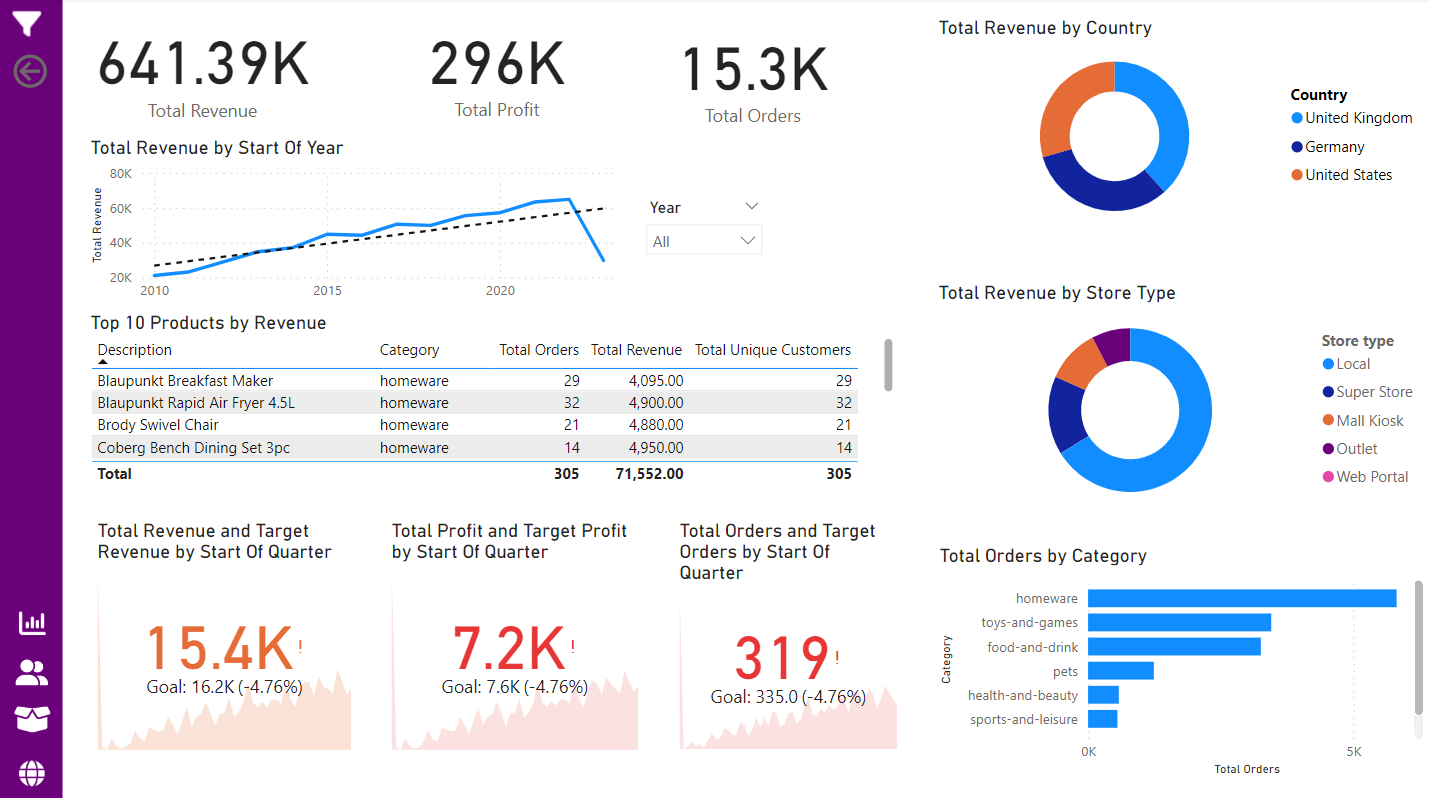

The page's visual inventory and layout, read from the dashboard file:
{"tool":"powerbi","page":{"name":"Executive Summary","canvas":[1280,720],"ordinal":0},"visuals":[{"type":"shape","box":[0,0,56.7,719.6],"z":0},{"type":"card","fields":{"Values":["Measures Table.Total Revenue"]},"box":[56.9,0,288.1,189.8],"z":1000},{"type":"card","fields":{"Values":["Measures Table.Total Orders"]},"box":[610.3,15.8,209.6,158.2],"z":2000},{"type":"card","fields":{"Values":["Measures Table.Total Profit"]},"box":[345,0,295,191.5],"z":3000},{"type":"lineChart","fields":{"Y":["Measures Table.Total Revenue"],"Category":["Dates.Start Of Year.Variation.Date Hierarchy.Year","Dates.Start Of Year.Variation.Date Hierarchy.Quarter","Dates.Start Of Year.Variation.Date Hierarchy.Month","Dates.Start Of Year.Variation.Date Hierarchy.Day"]},"box":[178.1,189.9,537.5,227.7],"z":4000},{"type":"donutChart","fields":{"Y":["Measures Table.Total Revenue"],"Category":["Stores.Country"]},"box":[835.8,15.8,444.2,196.4],"z":5000},{"type":"donutChart","fields":{"Y":["Measures Table.Total Revenue"],"Category":["Stores.Store Type"]},"box":[835.8,253.1,444.2,212.2],"z":6000},{"type":"clusteredBarChart","fields":{"Category":["Products.Category"],"Y":["Measures Table.Total Orders"]},"box":[836.1,488.9,443.1,212.5],"z":7000},{"type":"kpi","fields":{"TrendLine":["Dates.Start Of Quarter"],"Goal":["Measures Table.Target Revenue"],"Indicator":["Measures Table.Total Revenue"]},"box":[82,466.2,237.4,211.5],"z":8000},{"type":"kpi","fields":{"Indicator":["Measures Table.Total Profit"],"TrendLine":["Dates.Start Of Quarter"],"Goal":["Measures Table.Target Profit"]},"box":[345.4,466.2,231,211.5],"z":9000},{"type":"kpi","fields":{"Indicator":["Measures Table.Total Orders"],"TrendLine":["Dates.Start Of Quarter"],"Goal":["Measures Table.Target Orders"]},"box":[600.1,466.2,205.1,211.5],"z":10000}]}

Visuals, with their boxes on the page's 1280x720 design canvas (x1, y1, x2, y2). These are canvas units, not pixel positions in the 1429x798 screenshot, which may show the page scaled, cropped or inside an application window:
shape: [x1=0, y1=0, x2=57, y2=720]
card - Measures Table.Total Revenue: [x1=57, y1=0, x2=345, y2=190]
card - Measures Table.Total Orders: [x1=610, y1=16, x2=820, y2=174]
card - Measures Table.Total Profit: [x1=345, y1=0, x2=640, y2=192]
lineChart - Measures Table.Total Revenue x Dates.Start Of Year.Variation.Date Hierarchy.Year: [x1=178, y1=190, x2=716, y2=418]
donutChart - Measures Table.Total Revenue x Stores.Country: [x1=836, y1=16, x2=1280, y2=212]
donutChart - Measures Table.Total Revenue x Stores.Store Type: [x1=836, y1=253, x2=1280, y2=465]
clusteredBarChart - Products.Category x Measures Table.Total Orders: [x1=836, y1=489, x2=1279, y2=701]
kpi - Dates.Start Of Quarter x Measures Table.Target Revenue: [x1=82, y1=466, x2=319, y2=678]
kpi - Measures Table.Total Profit x Dates.Start Of Quarter: [x1=345, y1=466, x2=576, y2=678]
kpi - Measures Table.Total Orders x Dates.Start Of Quarter: [x1=600, y1=466, x2=805, y2=678]
